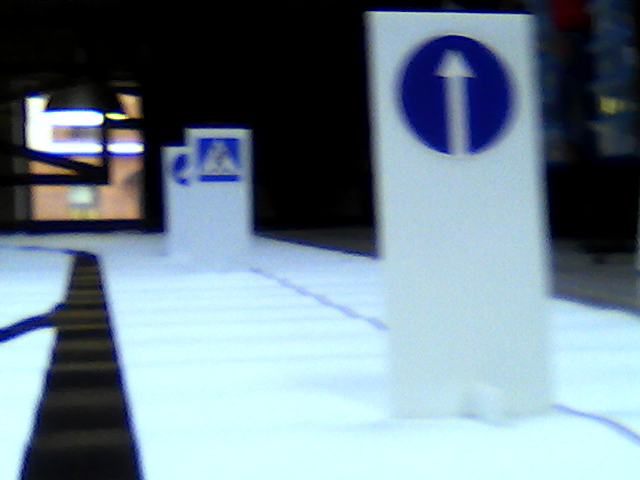forw: (401, 38, 523, 157)
pesh: (195, 137, 241, 183)
